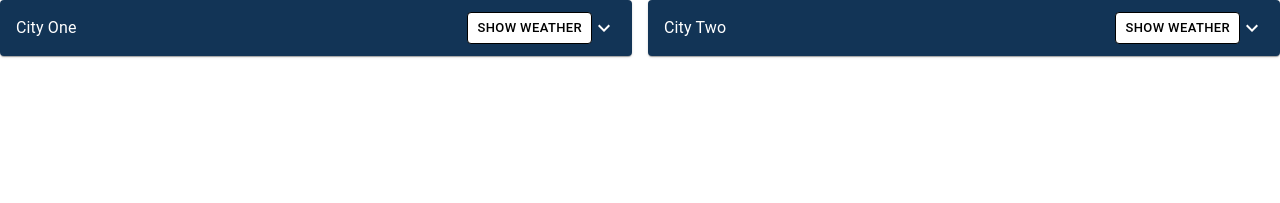
Test: CityGrid › renders museums correctly when not loading
Click the text "City One" at {"x": 46, "y": 28}, box x1=16 y1=18 x2=77 y2=37
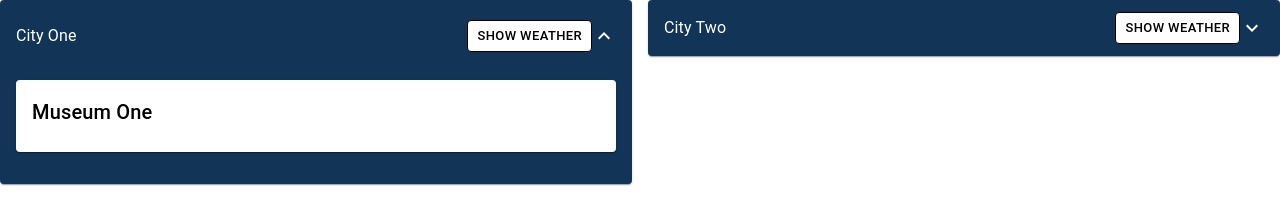
Result: the link "Museum One" is shown at x1=32 y1=100 x2=152 y2=124
Click the text "City Two" at {"x": 695, "y": 28}, box x1=664 y1=18 x2=726 y2=37
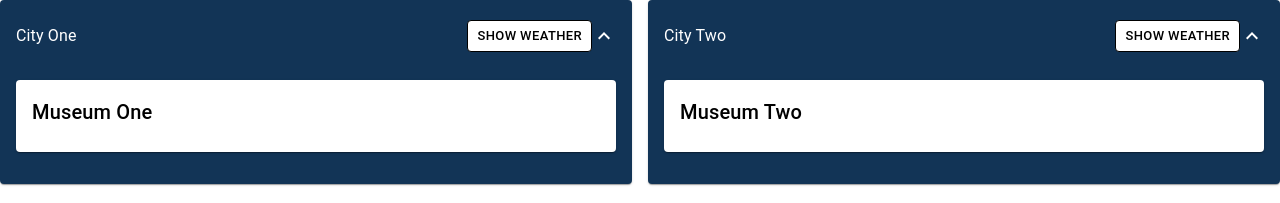
Result: the link "Museum Two" is shown at x1=680 y1=100 x2=802 y2=124
